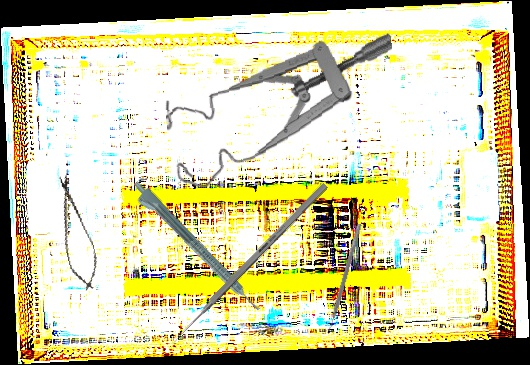Handpiece: (125, 178, 264, 320)
Micro Scissor: (48, 172, 104, 294)
Pusher: (169, 182, 329, 346)
Spatula Surgical: (323, 222, 362, 334)
Speculum: (160, 31, 403, 191)
